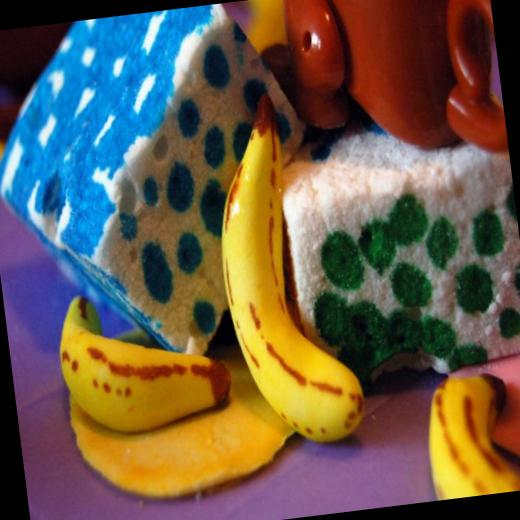Banana: (199, 86, 367, 455), (51, 280, 235, 438), (419, 369, 520, 500)
